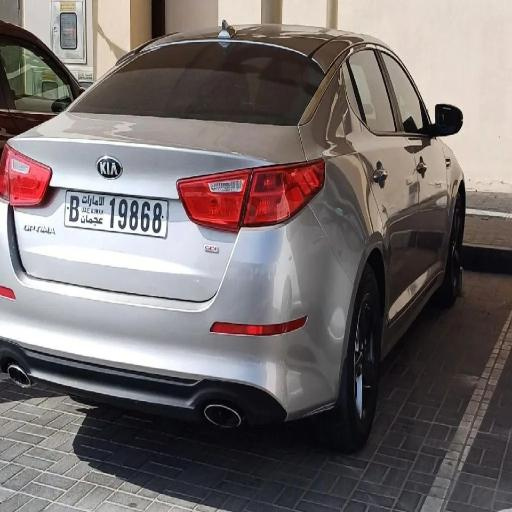license-plates: (64, 190, 169, 238)
